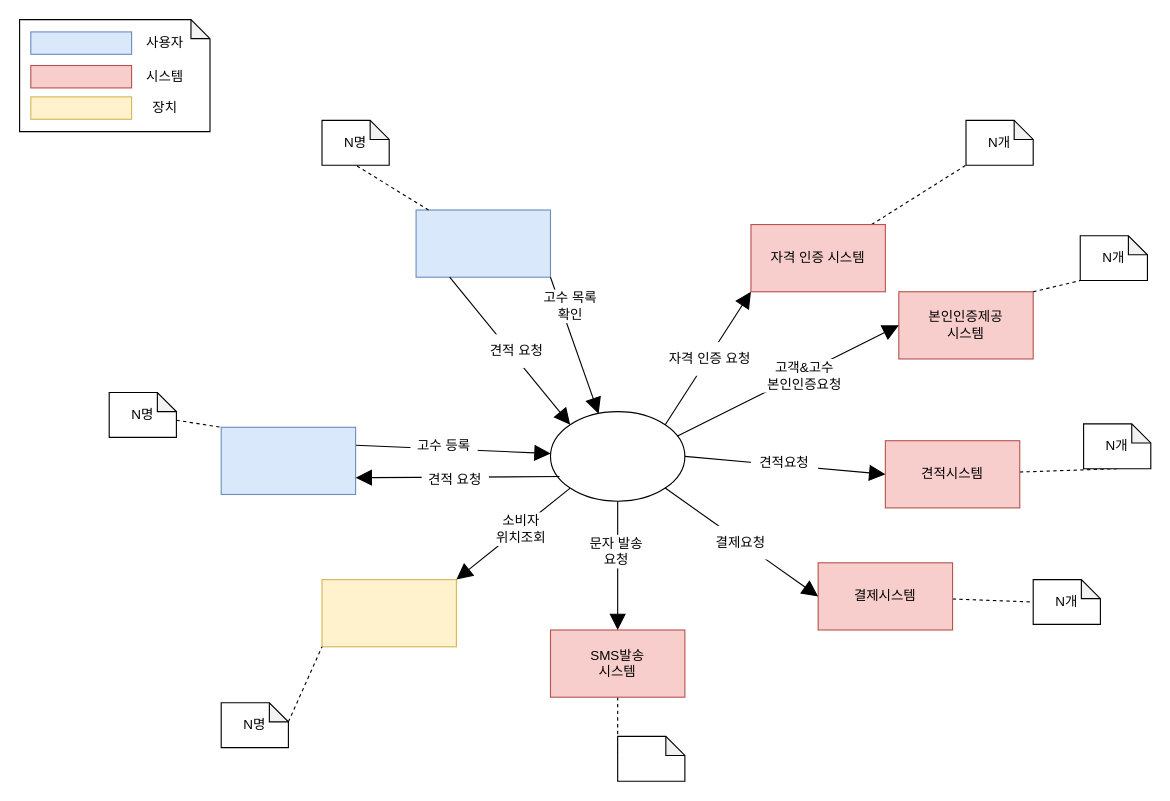
This 1170x801 diagram has some shape labels left out. Here are the shapes that lost their labels. From the top down, the box of each, then its label:
(415, 209, 550, 277): 고객
(220, 426, 356, 494): 고수
(549, 410, 685, 501): 재능 중계 플랫폼 (숨고)
(321, 578, 456, 647): GPS (소비자)
(617, 735, 685, 781): 1개
